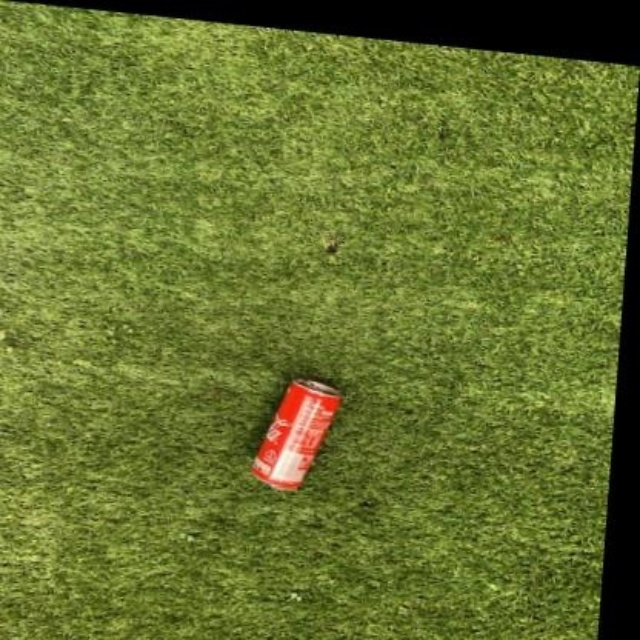trash: (252, 378, 340, 488)
